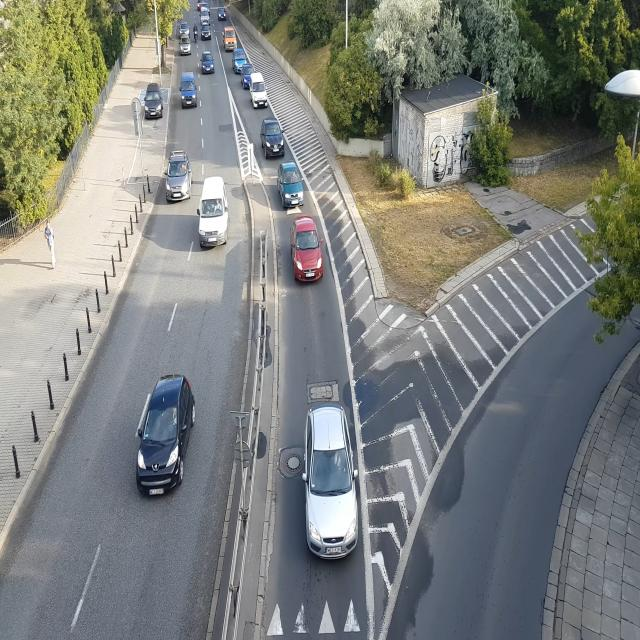car: (133, 360, 200, 500), (306, 407, 360, 560), (198, 178, 230, 250), (291, 214, 323, 284), (279, 160, 307, 213), (166, 150, 193, 202), (260, 118, 285, 160), (142, 85, 165, 121), (179, 70, 198, 109), (249, 78, 269, 108), (235, 49, 252, 72), (199, 51, 215, 74), (224, 26, 238, 49), (178, 18, 190, 41), (180, 39, 193, 57), (199, 9, 212, 27), (200, 24, 212, 40), (218, 10, 229, 22)
motorcycle: (192, 21, 198, 45)
